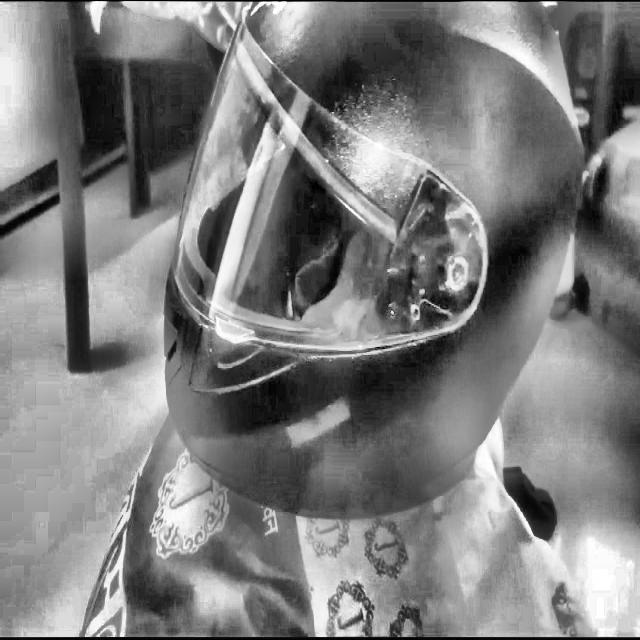Helmet: (157, 0, 587, 523)
